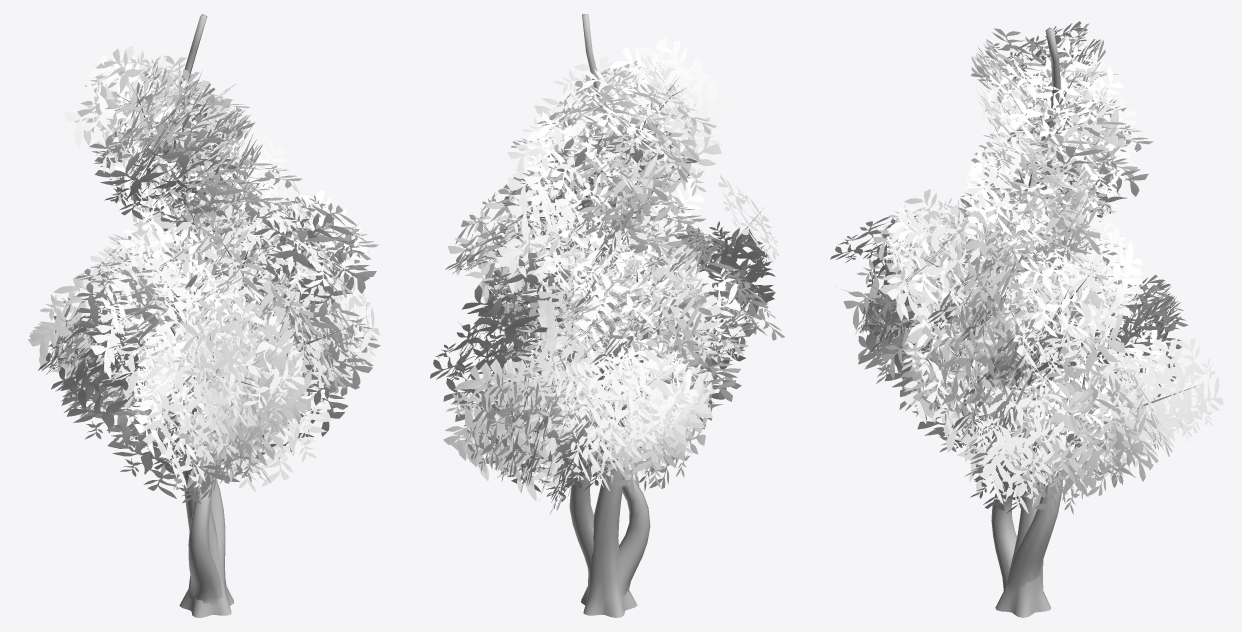
The model's file is Tree2.fbx.
3 renders of one model, left to right at view 1: azimuth 30°, elevation 25°; view 2: azimuth 150°, elevation 25°; view 3: azimuth 270°, elevation 25°, orthographic. The views are drawn at different scales.
Parts seen in each view (by area): view 1: illustration3_1, _0; view 2: illustration3_1, _0; view 3: illustration3_1, _0.
Boxes of the visible parts, x1,y1,x2,y2 form: illustration3_1: (28,45,380,503); _0: (57,14,369,617); illustration3_1: (430,37,784,513); _0: (457,14,764,617); illustration3_1: (830,21,1223,516); _0: (837,27,1199,617).
Bounding box in the file's own units: 244 × 466 × 293.
Materials: 1 (1 with a texture image).
